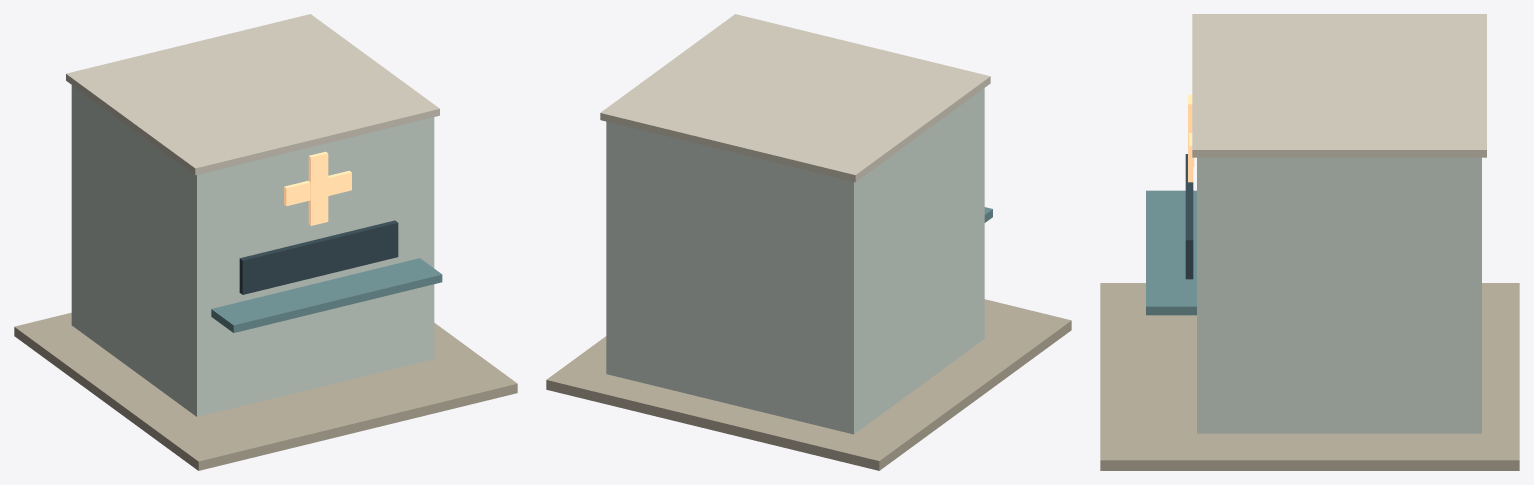
File: clinic_lod.glb
3 views of the same model, side by side, from view 1: azimuth 30°, elevation 25°; view 2: azimuth 150°, elevation 25°; view 3: azimuth 270°, elevation 25° (orthographic). The views are drawn at different scales.
Parts seen in each view (by area): view 1: clinic_Building_Volume.001, clinic_Roof_Coping.001, clinic_Site_Paving.001, clinic_Clinic_Canopy.001, clinic_Sign_Backplate.001, clinic_Medical_Cross_V.001, clinic_Medical_Cross_H.001; view 2: clinic_Building_Volume.001, clinic_Roof_Coping.001, clinic_Site_Paving.001; view 3: clinic_Building_Volume.001, clinic_Roof_Coping.001, clinic_Site_Paving.001, clinic_Clinic_Canopy.001, clinic_Sign_Backplate.001.
Part boxes in pixels (x1,y1,x2,y2): clinic_Building_Volume.001: (71, 85, 434, 416); clinic_Roof_Coping.001: (66, 14, 439, 175); clinic_Site_Paving.001: (14, 312, 517, 470); clinic_Clinic_Canopy.001: (211, 258, 442, 332); clinic_Sign_Backplate.001: (239, 220, 398, 294); clinic_Medical_Cross_V.001: (308, 151, 328, 225); clinic_Medical_Cross_H.001: (284, 170, 351, 206); clinic_Building_Volume.001: (606, 88, 984, 434); clinic_Roof_Coping.001: (600, 14, 990, 182); clinic_Site_Paving.001: (546, 299, 1071, 470); clinic_Building_Volume.001: (1197, 157, 1481, 433); clinic_Roof_Coping.001: (1192, 14, 1486, 157); clinic_Site_Paving.001: (1100, 283, 1519, 470); clinic_Clinic_Canopy.001: (1146, 190, 1196, 315); clinic_Sign_Backplate.001: (1185, 154, 1193, 279).
Bounding box in the file's own units: 7.8 × 6.16 × 7.8.
